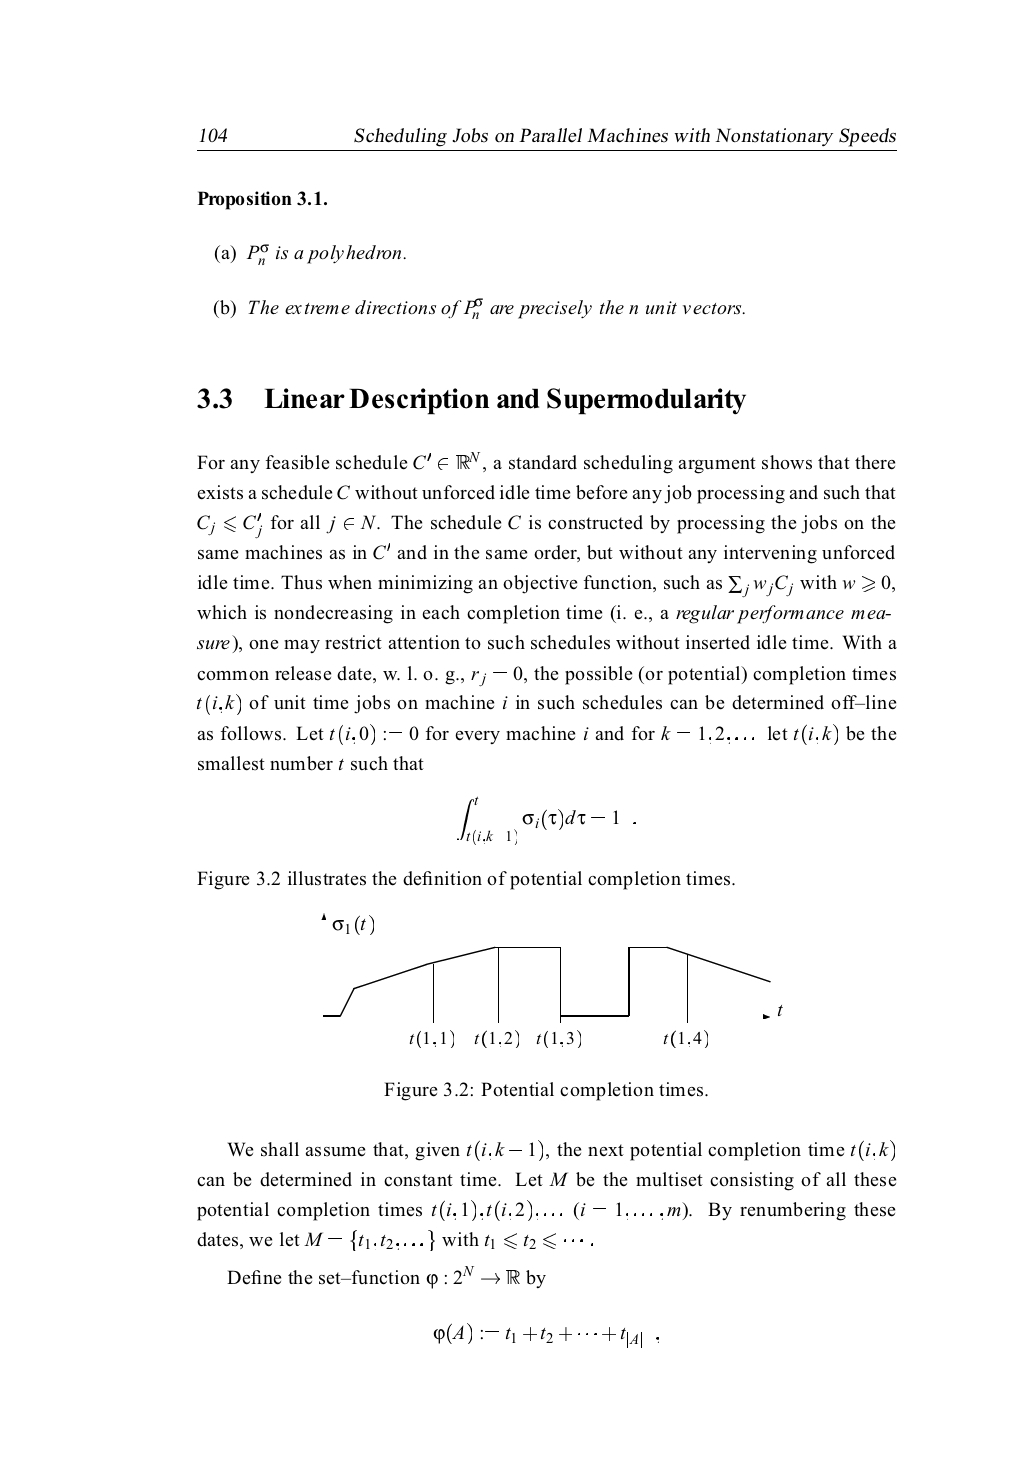figure: (321, 914, 782, 1047)
formula: (457, 795, 635, 846), (433, 1322, 658, 1347)
